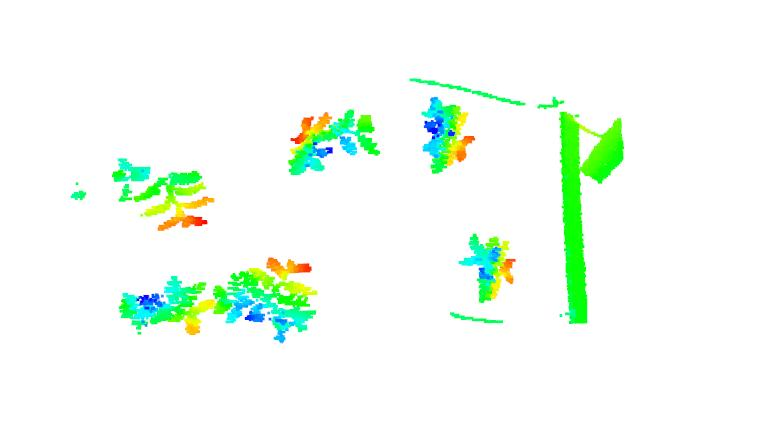chickpea: (225, 255, 319, 344), (112, 156, 214, 231), (287, 105, 384, 180), (121, 272, 213, 339), (459, 230, 520, 305), (419, 92, 474, 173)
